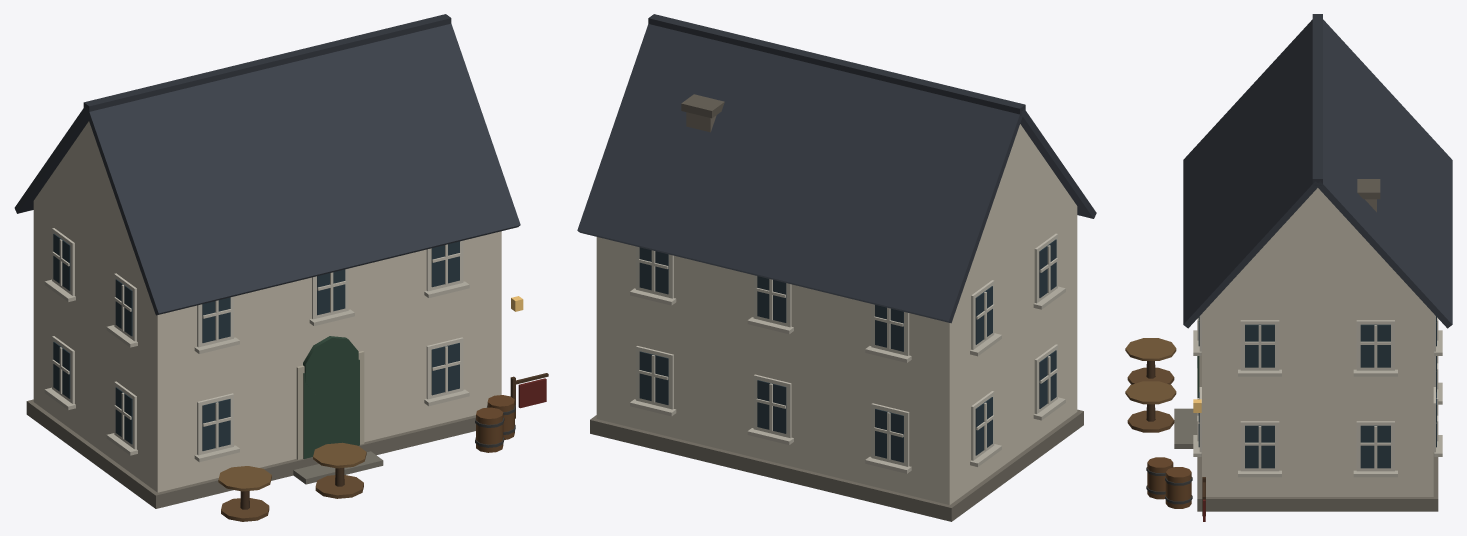
The model's file is procedural_inn@4.glb.
3 views of the same model, side by side, from view 1: azimuth 30°, elevation 25°; view 2: azimuth 150°, elevation 25°; view 3: azimuth 270°, elevation 25° (orthographic). The views are drawn at different scales.
Visible parts, largest first — view 1: part_0; view 2: part_0; view 3: part_0.
Part boxes in pixels (x1,y1,x2,y2): part_0: [14, 14, 548, 521]; part_0: [577, 14, 1096, 521]; part_0: [1125, 14, 1452, 521].
Size of the model in its own units: 9.31 by 7.97 by 7.05.
